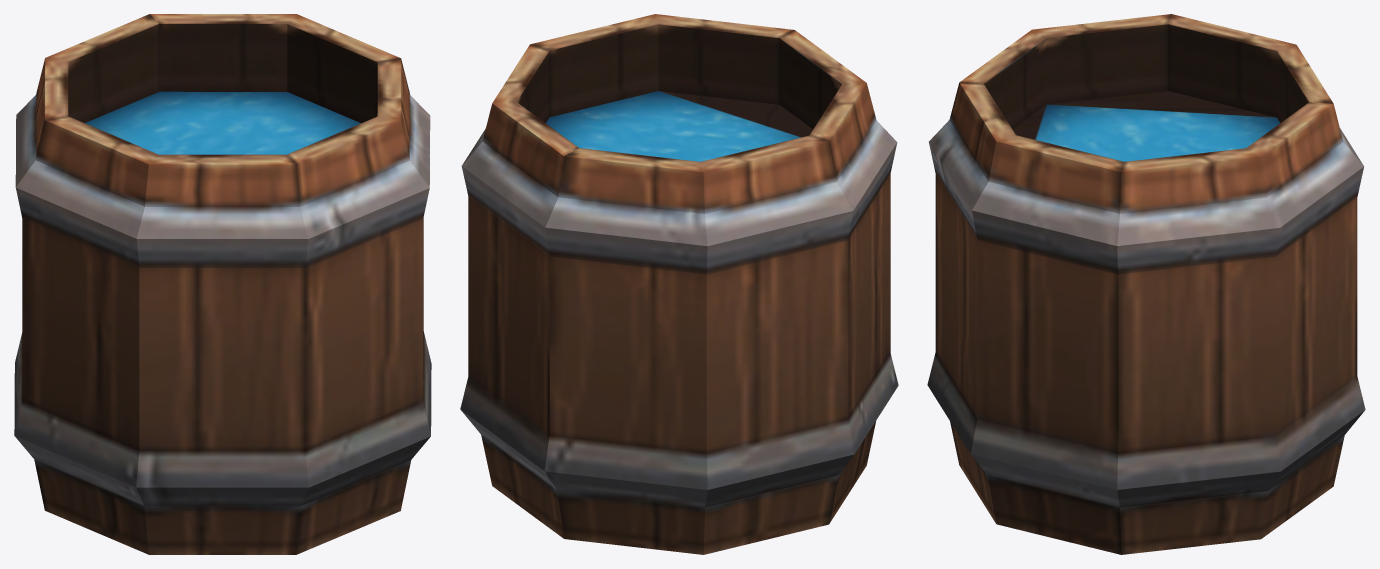
File: shuitong.fbx
3 renders of one model, left to right at view 1: azimuth 30°, elevation 25°; view 2: azimuth 150°, elevation 25°; view 3: azimuth 270°, elevation 25°, orthographic. The views are drawn at different scales.
Parts seen in each view (by area): view 1: shuitong; view 2: shuitong; view 3: shuitong.
Part boxes in pixels (x1,y1,x2,y2): shuitong: (14,14,431,554); shuitong: (460,14,898,554); shuitong: (927,14,1365,554).
Bounding box in the file's own units: 27.97 × 26.95 × 27.97.
